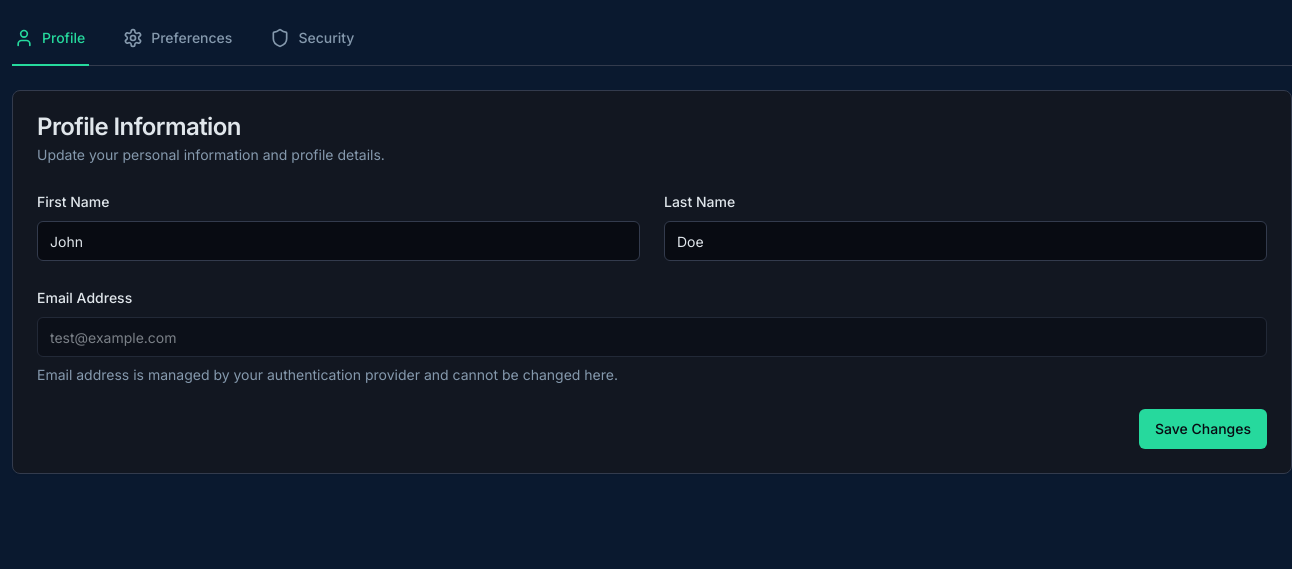
Test: UserProfile › Error Handling › displays network errors
Click the button "Save Changes".
click(1203, 429)  # box [1139,409,1267,449]
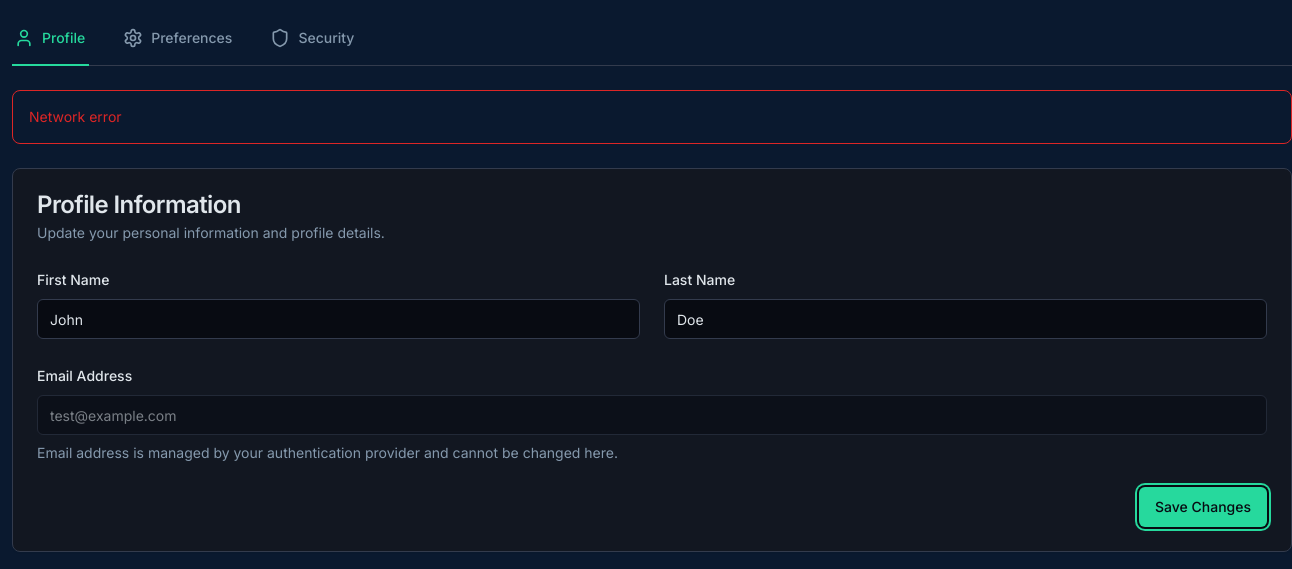
Check: the text "Network error" is shown, box [29,108,122,125]
